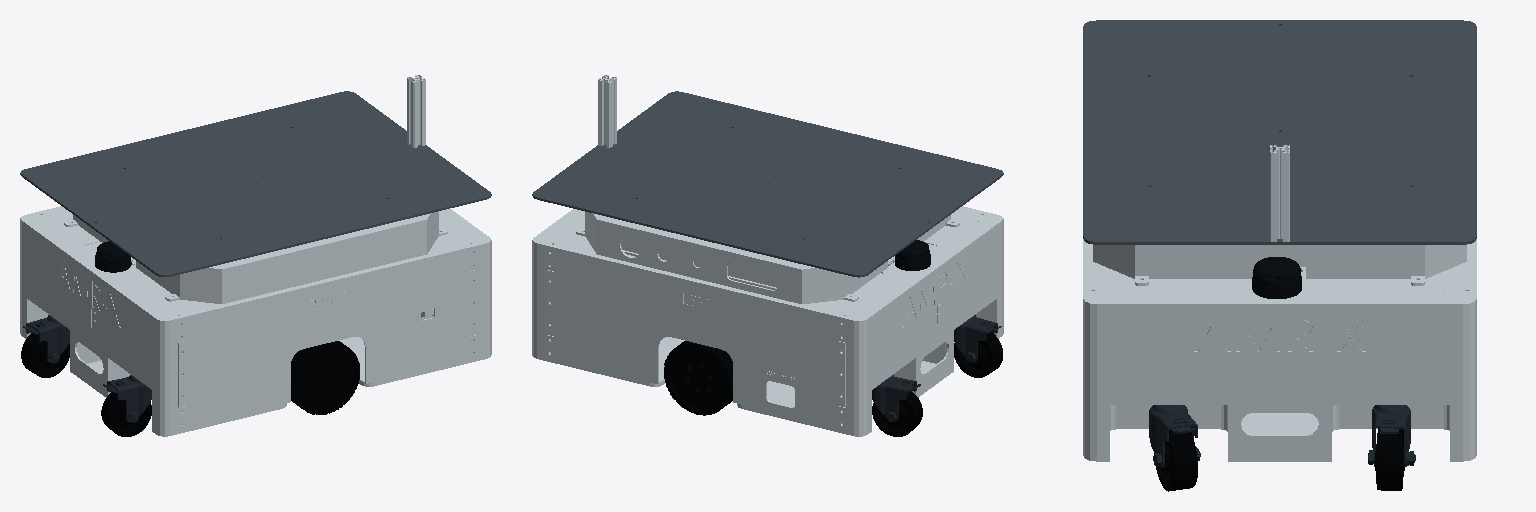
The robot description file, URDF, robot "AMR-X_robot":
<?xml version="1.0" encoding="utf-8"?>
<!-- This URDF was automatically created by SolidWorks to URDF Exporter! Originally created by Stephen Brawner (brawner@gmail.com) 
     Commit Version: 1.6.0-4-g7f85cfe  Build Version: 1.6.7995.38578
     For more information, please see http://wiki.ros.org/sw_urdf_exporter -->
<robot
  name="AMR-X_robot">
  <!-- Product finishes shared by the existing CAD parts. These materials
       change appearance only; no geometry or physical properties are added. -->
  <material name="amrx_porcelain_white">
    <color rgba="0.82 0.86 0.88 1" />
  </material>
  <material name="amrx_brushed_silver">
    <color rgba="0.32 0.36 0.39 1" />
  </material>
  <material name="amrx_graphite_hardware">
    <color rgba="0.16 0.19 0.22 1" />
  </material>
  <material name="amrx_rubber_black">
    <color rgba="0.035 0.04 0.045 1" />
  </material>
  <material name="amrx_sensor_graphite">
    <color rgba="0.06 0.08 0.10 1" />
  </material>
  <link
    name="base_link">
    <inertial>
      <origin
        xyz="0.0013571 -0.00065205 -0.21112"
        rpy="0 0 0" />
      <mass
        value="22.435" />
      <inertia
        ixx="0.54135"
        ixy="-0.00028346"
        ixz="0.00024483"
        iyy="0.9733"
        iyz="-0.00016813"
        izz="1.4441" />
    </inertial>
    <visual name="body_finish">
      <origin
        xyz="0 0 0"
        rpy="0 0 0" />
      <geometry>
        <mesh
          filename="package://robot_description/meshes/base_body_visual.STL" />
      </geometry>
      <material name="amrx_porcelain_white" />
    </visual>
    <visual name="deck_finish">
      <origin xyz="0 0 0" rpy="0 0 0" />
      <geometry>
        <mesh filename="package://robot_description/meshes/base_deck_visual.STL" />
      </geometry>
      <material name="amrx_brushed_silver" />
    </visual>
    <visual name="cad_lidar_finish">
      <origin xyz="0 0 0" rpy="0 0 0" />
      <geometry>
        <mesh filename="package://robot_description/meshes/base_lidar_visual.STL" />
      </geometry>
      <material name="amrx_sensor_graphite" />
    </visual>
    <collision>
      <!-- Keep the detailed CAD mesh for rendering, but use a primitive for
           stable and inexpensive dynamic contact in Gazebo. -->
      <origin xyz="0 0 -0.185" rpy="0 0 0" />
      <geometry>
        <box size="0.8 0.6 0.37" />
      </geometry>
    </collision>
  </link>
  <link
    name="FR_Body_Caster_Link">
    <inertial>
      <origin
        xyz="0.020503 0.00806 -0.035146"
        rpy="0 0 0" />
      <mass
        value="0.071265" />
      <inertia
        ixx="4.4532E-05"
        ixy="-5.8177E-07"
        ixz="2.6946E-06"
        iyy="4.5994E-05"
        iyz="9.4124E-07"
        izz="5.3514E-05" />
    </inertial>
    <visual>
      <origin
        xyz="0 0 0"
        rpy="0 0 0" />
      <geometry>
        <mesh
          filename="package://robot_description/meshes/FR_Body_Caster_Link.STL" />
      </geometry>
      <material name="amrx_graphite_hardware" />
    </visual>
    <collision>
      <origin
        xyz="0 0 0"
        rpy="0 0 0" />
      <geometry>
        <mesh
          filename="package://robot_description/meshes/FR_Body_Caster_Link.STL" />
      </geometry>
    </collision>
  </link>
  <joint
    name="FR_Body_Caster_joint"
    type="continuous">
    <origin
      xyz="0.374 -0.17 -0.2825"
      rpy="0 0 0" />
    <parent
      link="base_link" />
    <child
      link="FR_Body_Caster_Link" />
    <axis
      xyz="0 0 1" />
    <dynamics damping="0.02" friction="0.0" />
  </joint>
  <link
    name="FR_Caster_Wheel_Link">
    <inertial>
      <origin
        xyz="-2.2204E-16 0.022287 -1.0408E-16"
        rpy="0 0 0" />
      <mass
        value="0.17762" />
      <inertia
        ixx="0.00014868"
        ixy="4.7434E-20"
        ixz="-3.6516E-21"
        iyy="0.00025768"
        iyz="-4.8044E-20"
        izz="0.00014868" />
    </inertial>
    <visual>
      <origin
        xyz="0 0 0"
        rpy="0 0 0" />
      <geometry>
        <mesh
          filename="package://robot_description/meshes/FR_Caster_Wheel_Link.STL" />
      </geometry>
      <material name="amrx_rubber_black" />
    </visual>
    <collision>
      <origin xyz="0 0 0" rpy="1.57079632679 0 0" />
      <geometry>
        <!-- Match the 50 mm CAD wheel so all four casters can carry load,
             swivel, and roll instead of hovering above the floor. -->
        <cylinder radius="0.05" length="0.044" />
      </geometry>
    </collision>
  </link>
  <joint
    name="FR_Caster_Wheel_joint"
    type="continuous">
    <origin
      xyz="0.038692 -0.0097884 -0.078"
      rpy="0 0 0.33605" />
    <parent
      link="FR_Body_Caster_Link" />
    <child
      link="FR_Caster_Wheel_Link" />
    <axis
      xyz="0 1 0" />
    <dynamics damping="0.01" friction="0.0" />
  </joint>
  <link
    name="FL_Body_Caster_Link">
    <inertial>
      <origin
        xyz="0.022029 -0.00022334 -0.035145"
        rpy="0 0 0" />
      <mass
        value="0.071265" />
      <inertia
        ixx="4.4333E-05"
        ixy="9.067E-08"
        ixz="2.8508E-06"
        iyy="4.6193E-05"
        iyz="-1.388E-07"
        izz="5.3514E-05" />
    </inertial>
    <visual>
      <origin
        xyz="0 0 0"
        rpy="0 0 0" />
      <geometry>
        <mesh
          filename="package://robot_description/meshes/FL_Body_Caster_Link.STL" />
      </geometry>
      <material name="amrx_graphite_hardware" />
    </visual>
    <collision>
      <origin
        xyz="0 0 0"
        rpy="0 0 0" />
      <geometry>
        <mesh
          filename="package://robot_description/meshes/FL_Body_Caster_Link.STL" />
      </geometry>
    </collision>
  </link>
  <joint
    name="FL_Body_Caster_joint"
    type="continuous">
    <origin
      xyz="0.374 0.17 -0.2825"
      rpy="0 0 0" />
    <parent
      link="base_link" />
    <child
      link="FL_Body_Caster_Link" />
    <axis
      xyz="0 0 1" />
    <dynamics damping="0.02" friction="0.0" />
  </joint>
  <link
    name="FL_Caster_Wheel_Link">
    <inertial>
      <origin
        xyz="-3.3307E-16 -0.021713 -1.9082E-17"
        rpy="0 0 0" />
      <mass
        value="0.17762" />
      <inertia
        ixx="0.00014868"
        ixy="1.9905E-20"
        ixz="-6.1252E-21"
        iyy="0.00025768"
        iyz="-1.813E-21"
        izz="0.00014868" />
    </inertial>
    <visual>
      <origin
        xyz="0 0 0"
        rpy="0 0 0" />
      <geometry>
        <mesh
          filename="package://robot_description/meshes/FL_Caster_Wheel_Link.STL" />
      </geometry>
      <material name="amrx_rubber_black" />
    </visual>
    <collision>
      <origin xyz="0 0 0" rpy="1.57079632679 0 0" />
      <geometry>
        <cylinder radius="0.05" length="0.044" />
      </geometry>
    </collision>
  </link>
  <joint
    name="FL_Caster_Wheel_joint"
    type="continuous">
    <origin
      xyz="0.03433 0.020355 -0.078"
      rpy="0 0 -0.048651" />
    <parent
      link="FL_Body_Caster_Link" />
    <child
      link="FL_Caster_Wheel_Link" />
    <axis
      xyz="0 1 0" />
    <dynamics damping="0.01" friction="0.0" />
  </joint>
  <link
    name="BR_Body_Caster_Link">
    <inertial>
      <origin
        xyz="-0.022029 0.00021001 -0.035145"
        rpy="0 0 0" />
      <mass
        value="0.071265" />
      <inertia
        ixx="4.4333E-05"
        ixy="8.9544E-08"
        ixz="-2.8509E-06"
        iyy="4.6193E-05"
        iyz="1.3707E-07"
        izz="5.3514E-05" />
    </inertial>
    <visual>
      <origin
        xyz="0 0 0"
        rpy="0 0 0" />
      <geometry>
        <mesh
          filename="package://robot_description/meshes/BR_Body_Caster_Link.STL" />
      </geometry>
      <material name="amrx_graphite_hardware" />
    </visual>
    <collision>
      <origin
        xyz="0 0 0"
        rpy="0 0 0" />
      <geometry>
        <mesh
          filename="package://robot_description/meshes/BR_Body_Caster_Link.STL" />
      </geometry>
    </collision>
  </link>
  <joint
    name="BR_Body_Caster_joint"
    type="continuous">
    <origin
      xyz="-0.374 -0.17 -0.2825"
      rpy="0 0 0" />
    <parent
      link="base_link" />
    <child
      link="BR_Body_Caster_Link" />
    <axis
      xyz="0 0 1" />
    <dynamics damping="0.02" friction="0.0" />
  </joint>
  <link
    name="BR_Caster_Wheel_Link">
    <inertial>
      <origin
        xyz="1.89084858881472E-16 0.0217134660091165 -2.42861286636753E-17"
        rpy="0 0 0" />
      <mass
        value="0.177618721015328" />
      <inertia
        ixx="0.000148679235470585"
        ixy="-6.64920863594626E-20"
        ixz="2.96449903404524E-20"
        iyy="0.000257680237598665"
        iyz="3.42357738424235E-20"
        izz="0.000148679235470585" />
    </inertial>
    <visual>
      <origin
        xyz="0 0 0"
        rpy="0 0 0" />
      <geometry>
        <mesh
          filename="package://robot_description/meshes/BR_Caster_Wheel_Link.STL" />
      </geometry>
      <material name="amrx_rubber_black" />
    </visual>
    <collision>
      <origin xyz="0 0 0" rpy="1.57079632679 0 0" />
      <geometry>
        <cylinder radius="0.05" length="0.044" />
      </geometry>
    </collision>
  </link>
  <joint
    name="BR_Caster_Wheel_joint"
    type="continuous">
    <origin
      xyz="-0.034318 -0.020375 -0.078"
      rpy="0 0 -0.048045" />
    <parent
      link="BR_Body_Caster_Link" />
    <child
      link="BR_Caster_Wheel_Link" />
    <axis
      xyz="0 1 0" />
    <dynamics damping="0.01" friction="0.0" />
  </joint>
  <link
    name="BL_Body_Caster_Link">
    <inertial>
      <origin
        xyz="-0.0218678430005275 -0.00266697882029615 -0.0351455045702213"
        rpy="0 0 0" />
      <mass
        value="0.0712645529054218" />
      <inertia
        ixx="4.43414537888446E-05"
        ixy="-1.54182596802165E-07"
        ixz="-2.8443723651872E-06"
        iyy="4.61842448469417E-05"
        iyz="-2.36228974681822E-07"
        izz="5.3514226990257E-05" />
    </inertial>
    <visual>
      <origin
        xyz="0 0 0"
        rpy="0 0 0" />
      <geometry>
        <mesh
          filename="package://robot_description/meshes/BL_Body_Caster_Link.STL" />
      </geometry>
      <material name="amrx_graphite_hardware" />
    </visual>
    <collision>
      <origin
        xyz="0 0 0"
        rpy="0 0 0" />
      <geometry>
        <mesh
          filename="package://robot_description/meshes/BL_Body_Caster_Link.STL" />
      </geometry>
    </collision>
  </link>
  <joint
    name="BL_Body_Caster_joint"
    type="continuous">
    <origin
      xyz="-0.374 0.17 -0.2825"
      rpy="0 0 0" />
    <parent
      link="base_link" />
    <child
      link="BL_Body_Caster_Link" />
    <axis
      xyz="0 0 1" />
    <dynamics damping="0.02" friction="0.0" />
  </joint>
  <link
    name="BL_Caster_Wheel_Link">
    <inertial>
      <origin
        xyz="3.78169717762944E-16 -0.0222865339908825 7.97972798949331E-17"
        rpy="0 0 0" />
      <mass
        value="0.177618721015329" />
      <inertia
        ixx="0.000148679235470586"
        ixy="-4.74338450462408E-20"
        ixz="1.76270303633453E-20"
        iyy="0.000257680237598666"
        iyz="6.12979291859808E-21"
        izz="0.000148679235470585" />
    </inertial>
    <visual>
      <origin
        xyz="0 0 0"
        rpy="0 0 0" />
      <geometry>
        <mesh
          filename="package://robot_description/meshes/BL_Caster_Wheel_Link.STL" />
      </geometry>
      <material name="amrx_rubber_black" />
    </visual>
    <collision>
      <origin xyz="0 0 0" rpy="1.57079632679 0 0" />
      <geometry>
        <cylinder radius="0.05" length="0.044" />
      </geometry>
    </collision>
  </link>
  <joint
    name="BL_Caster_Wheel_joint"
    type="continuous">
    <origin
      xyz="-0.035006 0.019169 -0.078"
      rpy="0 0 0.082847" />
    <parent
      link="BL_Body_Caster_Link" />
    <child
      link="BL_Caster_Wheel_Link" />
    <axis
      xyz="0 1 0" />
    <dynamics damping="0.01" friction="0.0" />
  </joint>
  <link
    name="DR_Link">
    <inertial>
      <origin
        xyz="-1.58519700310666E-07 0.0188945749350604 -1.83852059257306E-07"
        rpy="0 0 0" />
      <mass
        value="0.694359970313603" />
      <inertia
        ixx="0.00133736761007223"
        ixy="4.06292710783286E-09"
        ixz="7.66114678476427E-10"
        iyy="0.00249169026727874"
        iyz="4.70958429396639E-09"
        izz="0.00133736783768793" />
    </inertial>
    <visual>
      <origin
        xyz="0 0 0"
        rpy="0 0 0" />
      <geometry>
        <mesh
          filename="package://robot_description/meshes/DR_Link.STL" />
      </geometry>
      <material name="amrx_rubber_black" />
    </visual>
    <collision>
      <origin xyz="0 0 0" rpy="1.57079632679 0 0" />
      <geometry>
        <cylinder radius="0.08" length="0.05" />
      </geometry>
    </collision>
  </link>
  <joint
    name="DR_joint"
    type="continuous">
    <origin
      xyz="0 -0.28935 -0.3305"
      rpy="0 0 0" />
    <parent
      link="base_link" />
    <child
      link="DR_Link" />
    <axis
      xyz="0 1 0" />
    <dynamics damping="0.05" friction="0.0" />
  </joint>
  <link
    name="DL_Link">
    <inertial>
      <origin
        xyz="-2.26846661788294E-07 -0.0188945749350604 8.64330206226671E-08"
        rpy="0 0 0" />
      <mass
        value="0.694359970313607" />
      <inertia
        ixx="0.00133736830215005"
        ixy="-5.81293010220082E-09"
        ixz="-5.15255062893285E-10"
        iyy="0.00249169026727875"
        iyz="2.21300802855076E-09"
        izz="0.00133736714561013" />
    </inertial>
    <visual>
      <origin
        xyz="0 0 0"
        rpy="0 0 0" />
      <geometry>
        <mesh
          filename="package://robot_description/meshes/DL_Link.STL" />
      </geometry>
      <material name="amrx_rubber_black" />
    </visual>
    <collision>
      <origin xyz="0 0 0" rpy="1.57079632679 0 0" />
      <geometry>
        <cylinder radius="0.08" length="0.05" />
      </geometry>
    </collision>
  </link>
  <joint
    name="DL_joint"
    type="continuous">
    <origin
      xyz="0 0.28935 -0.3305"
      rpy="0 0 0" />
    <parent
      link="base_link" />
    <child
      link="DL_Link" />
    <axis
      xyz="0 1 0" />
    <dynamics damping="0.05" friction="0.0" />
  </joint>
</robot>

--- What the picture shows (computed from the rendered views, not written in the file) ---
The picture shows the robot from 3 angles, left to right: view 1: azimuth 30°, elevation 25°; view 2: azimuth 150°, elevation 25°; view 3: azimuth 270°, elevation 25°; orthographic projection.
Robot: AMR-X_robot — 11 links, 10 joints (10 continuous); root link base_link; default pose: every joint at zero.
Links seen in each view (by area): view 1: base_link, DR_Link, BR_Caster_Wheel_Link, BL_Caster_Wheel_Link, BR_Body_Caster_Link, BL_Body_Caster_Link; view 2: base_link, DL_Link, BR_Caster_Wheel_Link, BL_Caster_Wheel_Link, BL_Body_Caster_Link, BR_Body_Caster_Link; view 3: base_link, FR_Caster_Wheel_Link, FR_Body_Caster_Link, FL_Caster_Wheel_Link, FL_Body_Caster_Link.
Link boxes in pixels (bbox=[...]): base_link: bbox=[20, 75, 491, 436]; DR_Link: bbox=[291, 341, 359, 414]; BR_Caster_Wheel_Link: bbox=[101, 392, 151, 436]; BL_Caster_Wheel_Link: bbox=[21, 333, 69, 377]; BR_Body_Caster_Link: bbox=[103, 375, 151, 422]; BL_Body_Caster_Link: bbox=[23, 315, 69, 362]; base_link: bbox=[532, 75, 1003, 436]; DL_Link: bbox=[664, 341, 732, 415]; BR_Caster_Wheel_Link: bbox=[954, 333, 1002, 377]; BL_Caster_Wheel_Link: bbox=[872, 392, 922, 436]; BL_Body_Caster_Link: bbox=[872, 375, 920, 421]; BR_Body_Caster_Link: bbox=[954, 315, 1001, 362]; base_link: bbox=[1083, 20, 1476, 461]; FR_Caster_Wheel_Link: bbox=[1154, 429, 1197, 491]; FR_Body_Caster_Link: bbox=[1149, 405, 1200, 467]; FL_Caster_Wheel_Link: bbox=[1375, 428, 1404, 490]; FL_Body_Caster_Link: bbox=[1368, 405, 1415, 466].
Size in the robot's own frame: 0.9171 by 0.6 by 0.5605 metres.
13 mesh visuals loaded from 13 distinct referenced files (13 binary STL).
